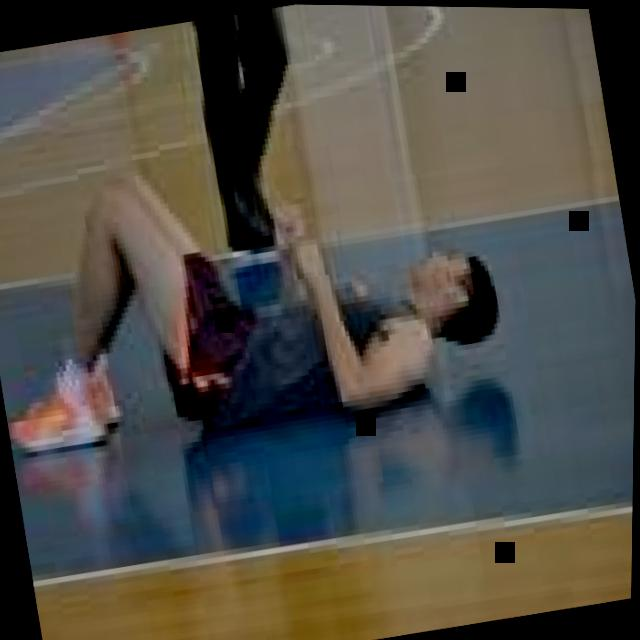Fall-Detected: (0, 102, 527, 466)
